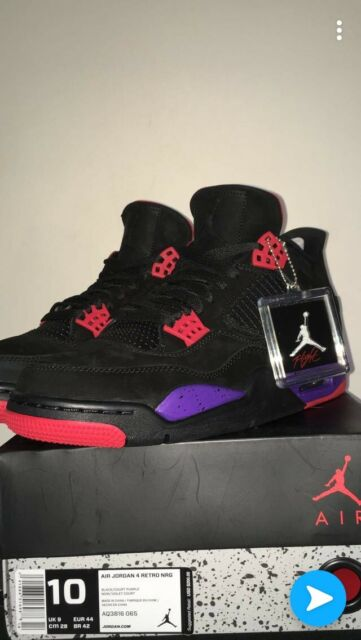Air Jordan 4 Raptors: (2, 180, 346, 451)
